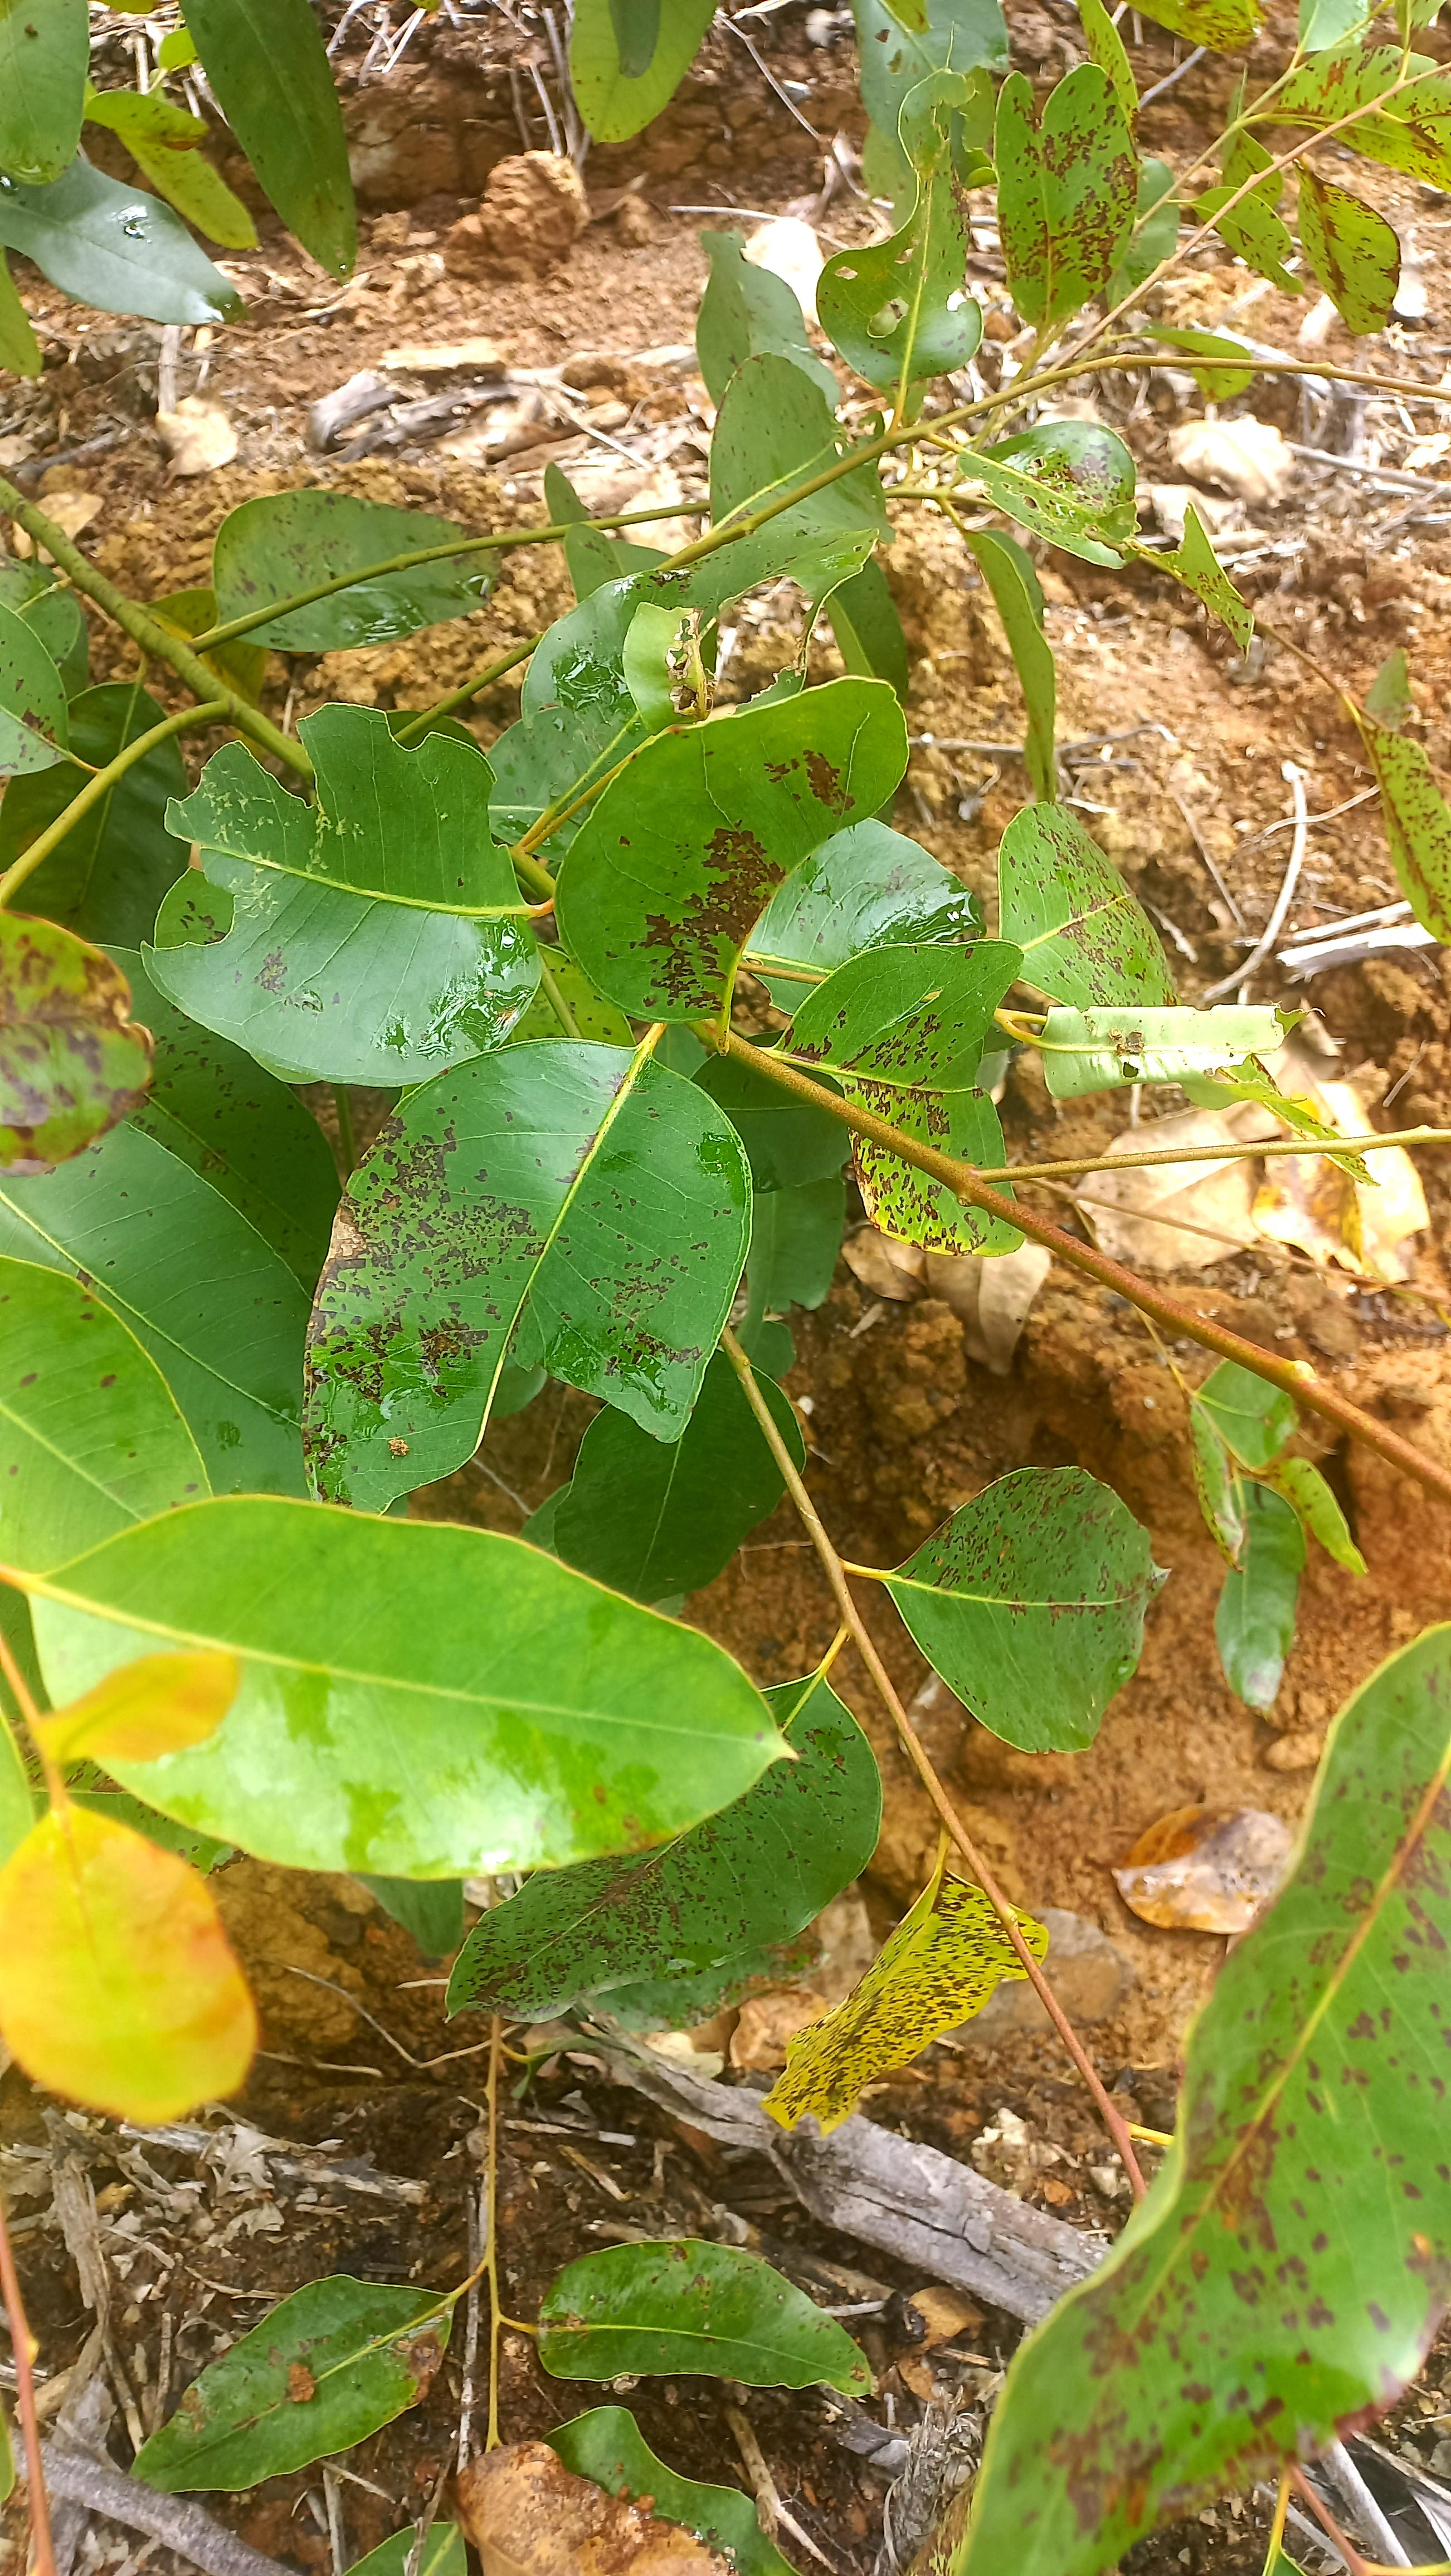Xanthomonas: (1019, 1633, 1439, 2576), (280, 1049, 764, 1509), (964, 51, 1198, 301), (782, 1874, 993, 2146), (198, 2273, 453, 2454), (625, 798, 814, 1008)
